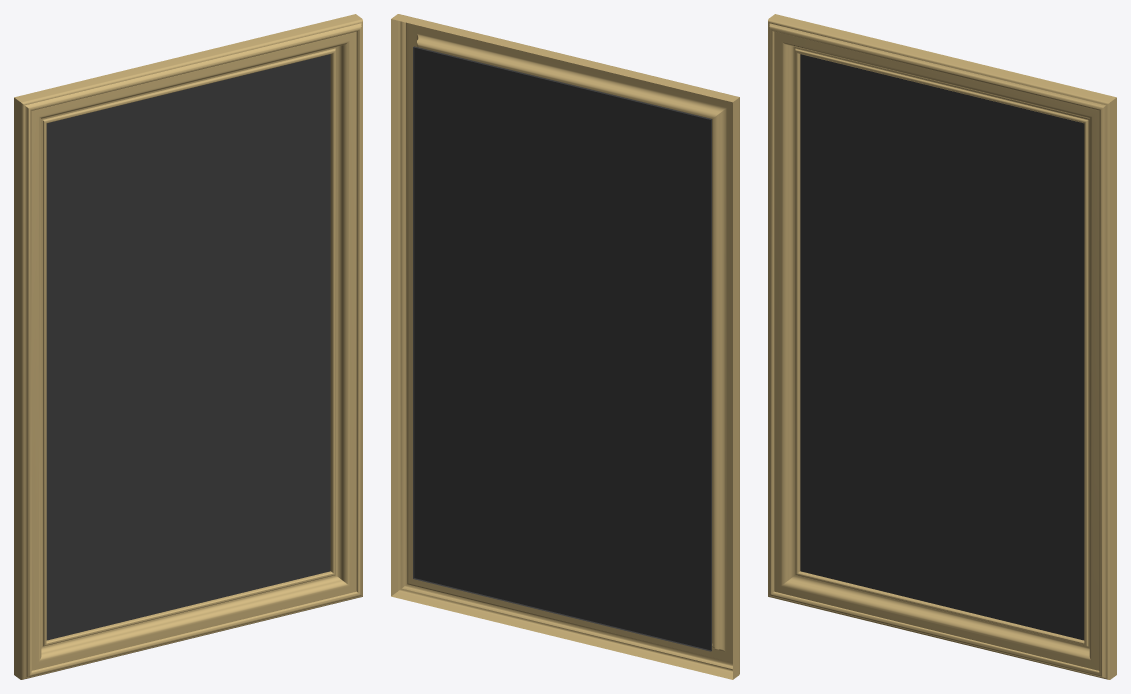
The model's file is MirrorFrame.fbx.
3 views of the same model, side by side, from view 1: azimuth 30°, elevation 25°; view 2: azimuth 150°, elevation 25°; view 3: azimuth 330°, elevation 25° (orthographic).
Parts seen in each view (by area): view 1: Mirror_Backing, Mirror_Frame; view 2: Mirror_Backing, Mirror_Frame; view 3: Mirror_Backing, Mirror_Frame.
Boxes of the visible parts, box(x1,y1,x2,y2) form: Mirror_Backing: box(46, 54, 330, 640); Mirror_Frame: box(14, 14, 362, 679); Mirror_Backing: box(413, 46, 711, 651); Mirror_Frame: box(391, 14, 739, 679); Mirror_Backing: box(800, 54, 1084, 640); Mirror_Frame: box(768, 14, 1116, 679).
Bounding box in the file's own units: 4.36 × 7.04 × 0.23.
